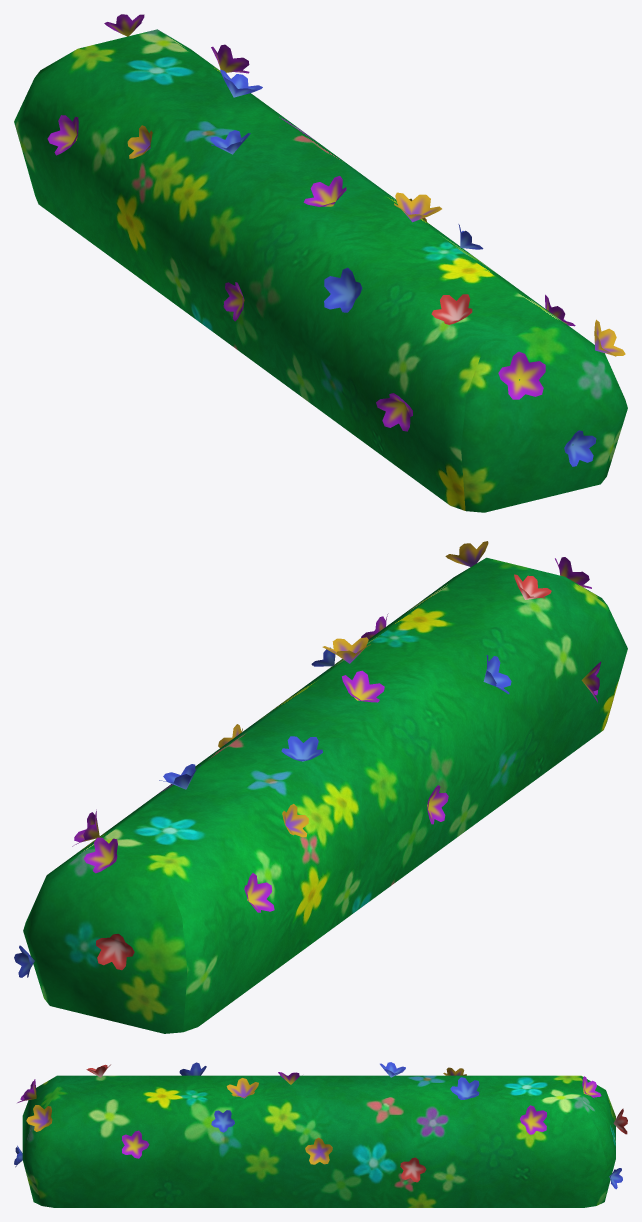
The model's file is Plant03_b03.FBX.
3 renders of one model, top to bottom at view 1: azimuth 30°, elevation 25°; view 2: azimuth 150°, elevation 25°; view 3: azimuth 270°, elevation 25°, orthographic. The views are drawn at different scales.
Visible parts, largest first — view 1: Plant03_b03; view 2: Plant03_b03; view 3: Plant03_b03.
Part boxes in pixels (x1,y1,x2,y2): Plant03_b03: (14, 14, 627, 512); Plant03_b03: (14, 541, 627, 1033); Plant03_b03: (14, 1062, 627, 1207).
Size of the model in its own units: 166 by 126 by 628.
Materials: 2 (2 with a texture image).
